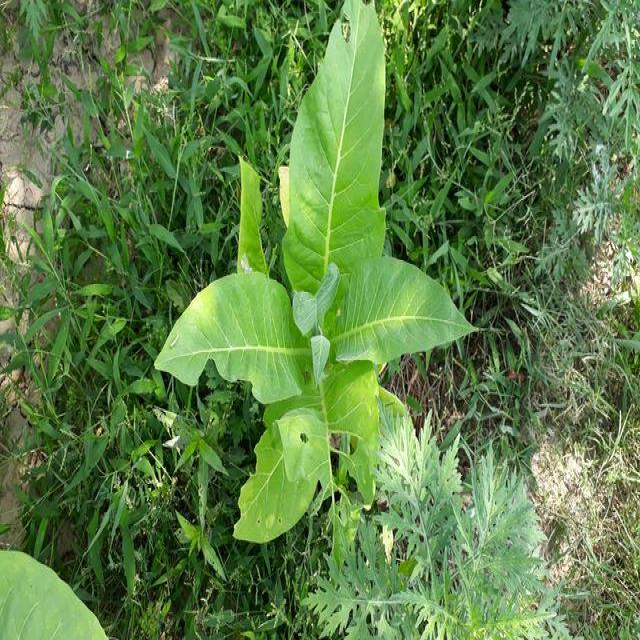crop: (156, 0, 481, 546)
